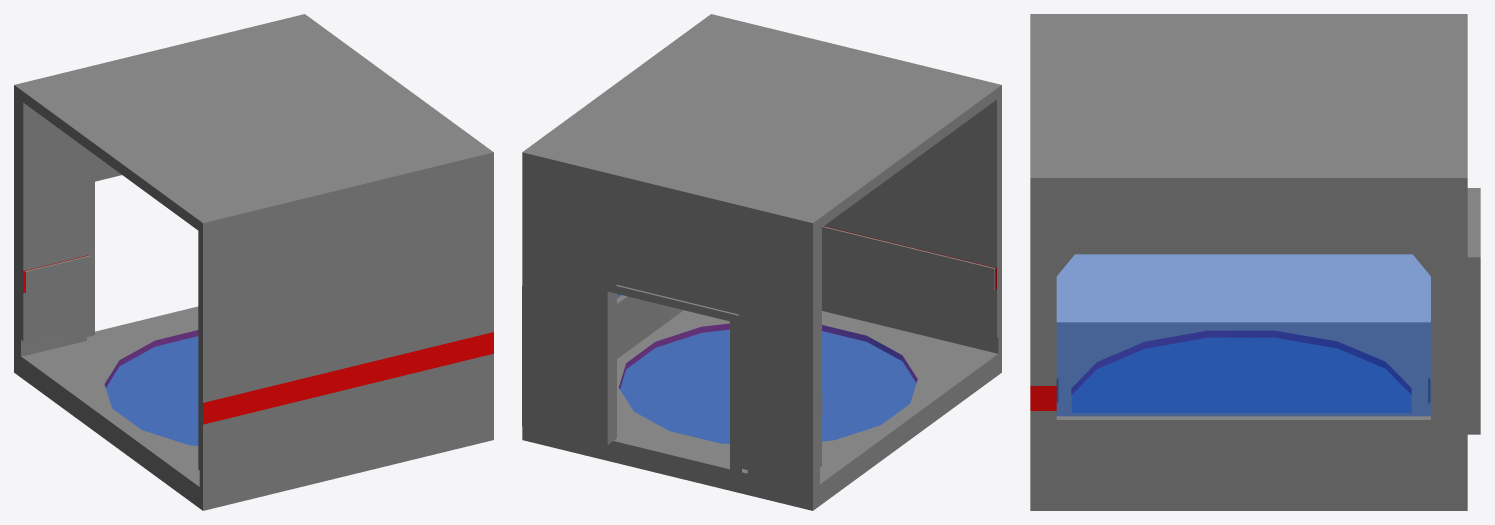
Rendered from elevatorRoom_3ds.fbx.
The picture shows the model from 3 angles, left to right: view 1: azimuth 30°, elevation 25°; view 2: azimuth 150°, elevation 25°; view 3: azimuth 270°, elevation 25°; orthographic projection. The views are drawn at different scales.
Parts seen in each view (by area): view 1: ElevatorRoom_inlobby; view 2: ElevatorRoom_inlobby; view 3: ElevatorRoom_inlobby.
Boxes of the visible parts, x1,y1,x2,y2 form: ElevatorRoom_inlobby: (14, 14, 493, 510); ElevatorRoom_inlobby: (522, 14, 1001, 510); ElevatorRoom_inlobby: (1030, 14, 1480, 510).
Size of the model in its own units: 4.7 by 4.45 by 5.45.
